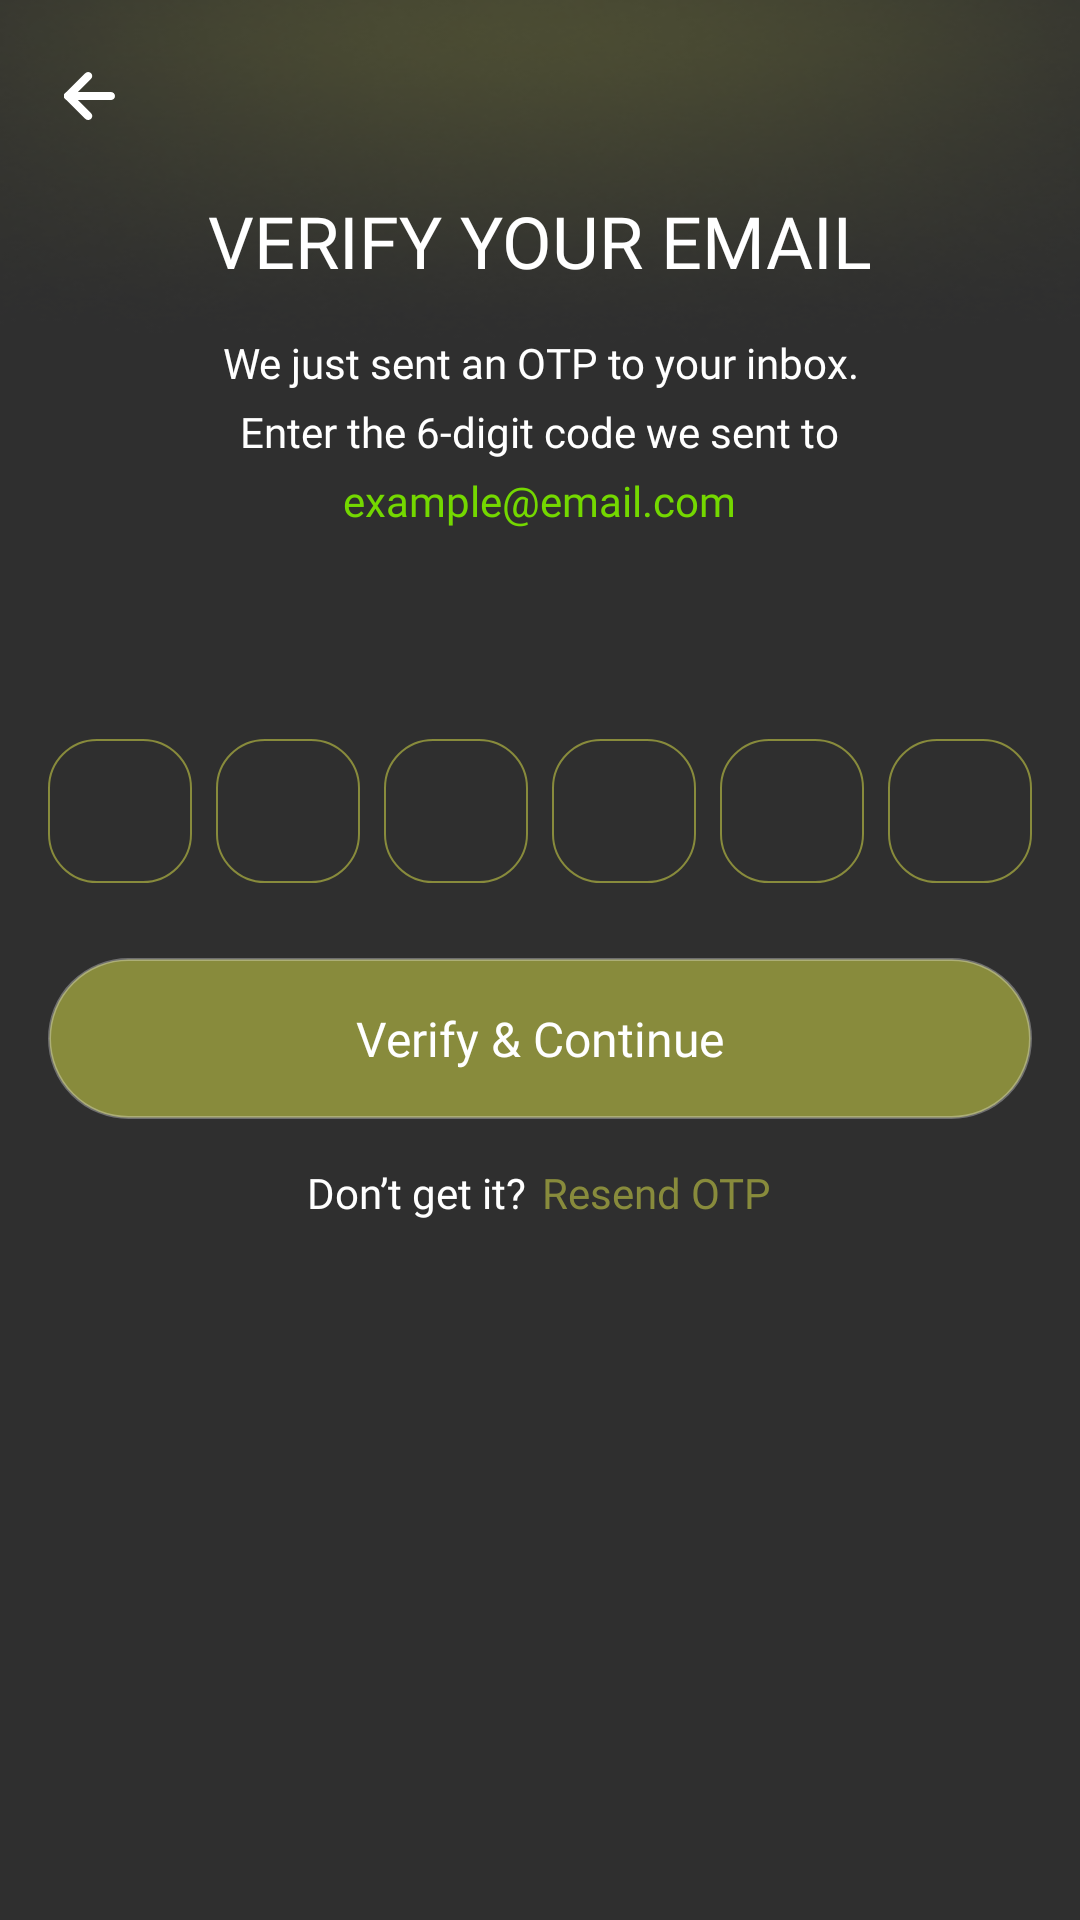

Icons on this 1080x1920 Android screen, each with the point to tap as point (x, y):
back arrow: point (89, 96)
